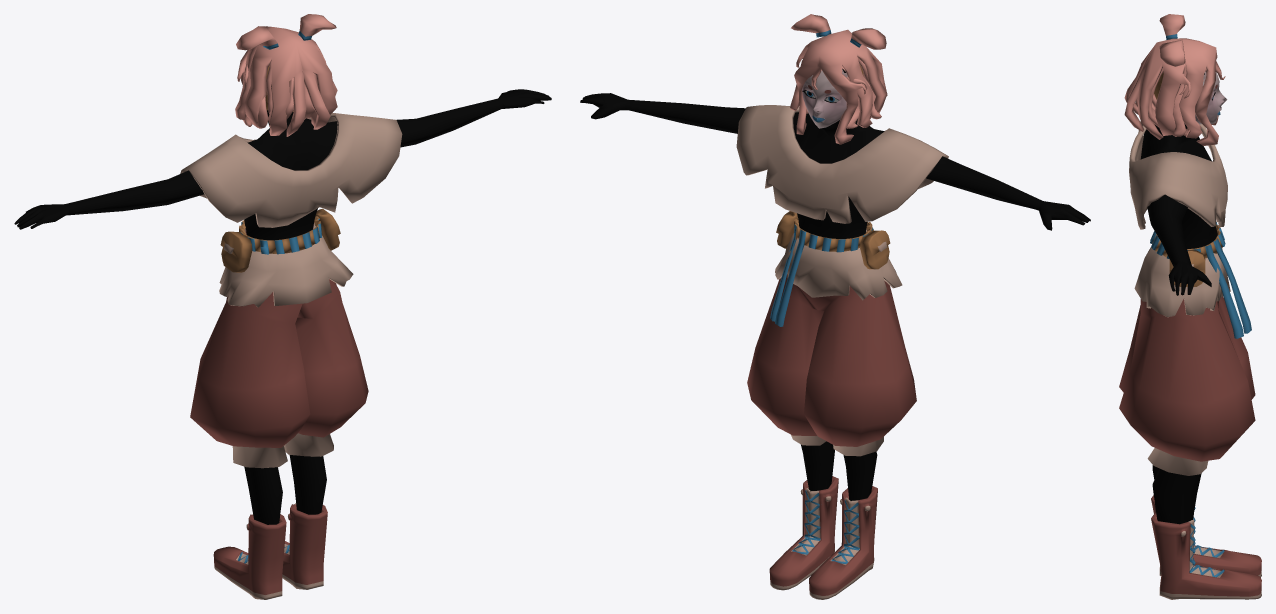
The model's file is mainchara_sub_smooth_notrigged_2.fbx.
3 renders of one model, left to right at view 1: azimuth 30°, elevation 25°; view 2: azimuth 150°, elevation 25°; view 3: azimuth 270°, elevation 25°, orthographic. The views are drawn at different scales.
Visible parts, largest first — view 1: femBase.005, femBase, Plane.007, Cube, femBase.003, femBase.006, Cube.002, Cube.001, Cylinder.001, Cube.004; view 2: femBase.005, femBase, Plane.007, femBase.003, Cube, femBase.006, Cylinder.001, Cube.002, Cube.001, femBase.007; view 3: femBase.005, femBase, Cube, femBase.003, Plane.007, femBase.006, Cylinder.001, Cube.001, Cube.004, femBase.007, Cube.002.
Part boxes in pixels (<box>): femBase.005: <box>190,222,368,468</box>; femBase: <box>14,65,551,524</box>; Plane.007: <box>180,112,402,227</box>; Cube: <box>235,26,337,136</box>; femBase.003: <box>213,503,327,599</box>; femBase.006: <box>219,223,353,307</box>; Cube.002: <box>220,208,340,272</box>; Cube.001: <box>236,14,336,50</box>; Cylinder.001: <box>239,216,321,254</box>; Cube.004: <box>244,61,315,128</box>; femBase.005: <box>747,274,916,456</box>; femBase: <box>580,64,1090,500</box>; Plane.007: <box>736,105,948,223</box>; femBase.003: <box>769,476,877,599</box>; Cube: <box>790,29,887,144</box>; femBase.006: <box>775,229,902,300</box>; Cylinder.001: <box>770,216,873,326</box>; Cube.002: <box>776,211,890,269</box>; Cube.001: <box>791,14,886,49</box>; femBase.007: <box>792,490,859,563</box>; femBase.005: <box>1119,296,1255,475</box>; femBase: <box>1140,71,1227,524</box>; Cube: <box>1124,38,1225,145</box>; femBase.003: <box>1151,495,1261,599</box>; Plane.007: <box>1129,121,1227,229</box>; femBase.006: <box>1134,247,1230,317</box>; Cylinder.001: <box>1150,221,1251,338</box>; Cube.001: <box>1159,14,1185,66</box>; Cube.004: <box>1135,63,1203,136</box>; femBase.007: <box>1189,507,1224,577</box>; Cube.002: <box>1169,250,1205,286</box>.
Size of the model in its own units: 147 by 150 by 34.92.
